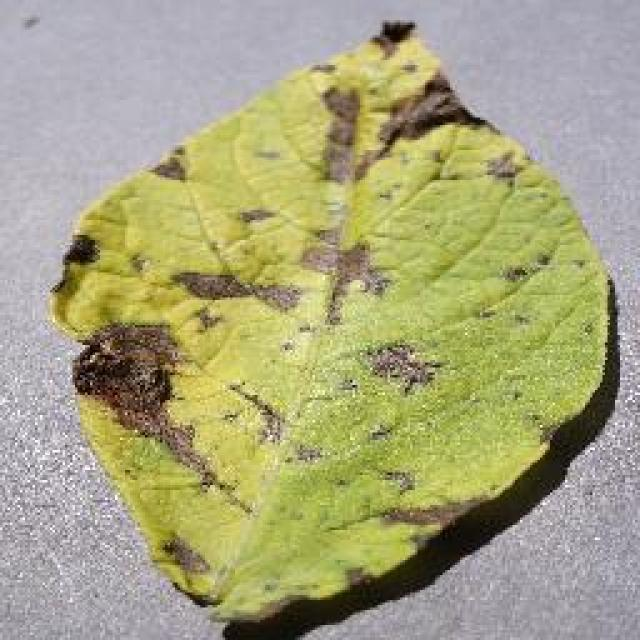early_blight: (45, 15, 620, 630)
